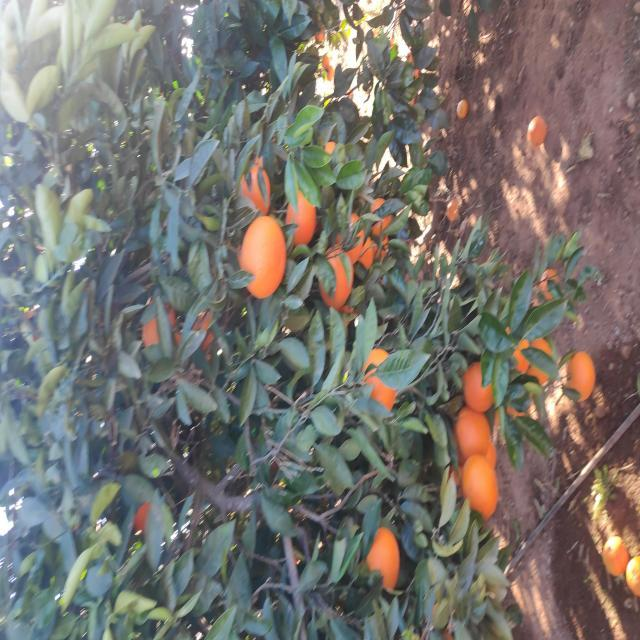Jeruk Sudah Matang: (341, 242, 427, 286), (122, 462, 184, 498), (47, 368, 114, 400), (227, 362, 293, 394), (333, 318, 393, 352), (178, 454, 234, 490), (393, 285, 455, 317), (420, 238, 478, 269), (294, 141, 345, 176), (256, 512, 300, 552), (228, 462, 280, 494), (368, 342, 427, 370), (238, 566, 289, 596), (404, 368, 444, 389), (340, 540, 372, 560), (106, 134, 140, 152), (597, 316, 608, 324), (560, 328, 574, 334), (571, 322, 585, 328)
